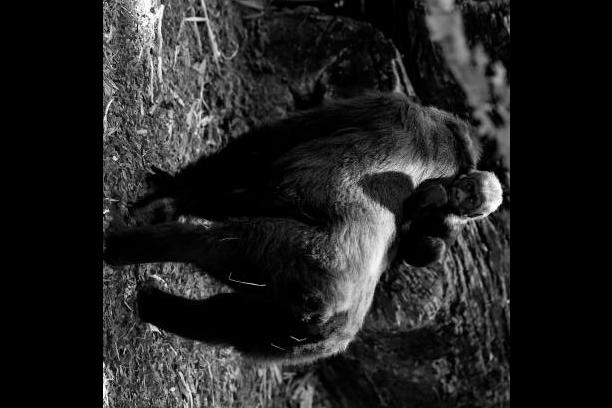gorille_Autres: (109, 79, 505, 394)
